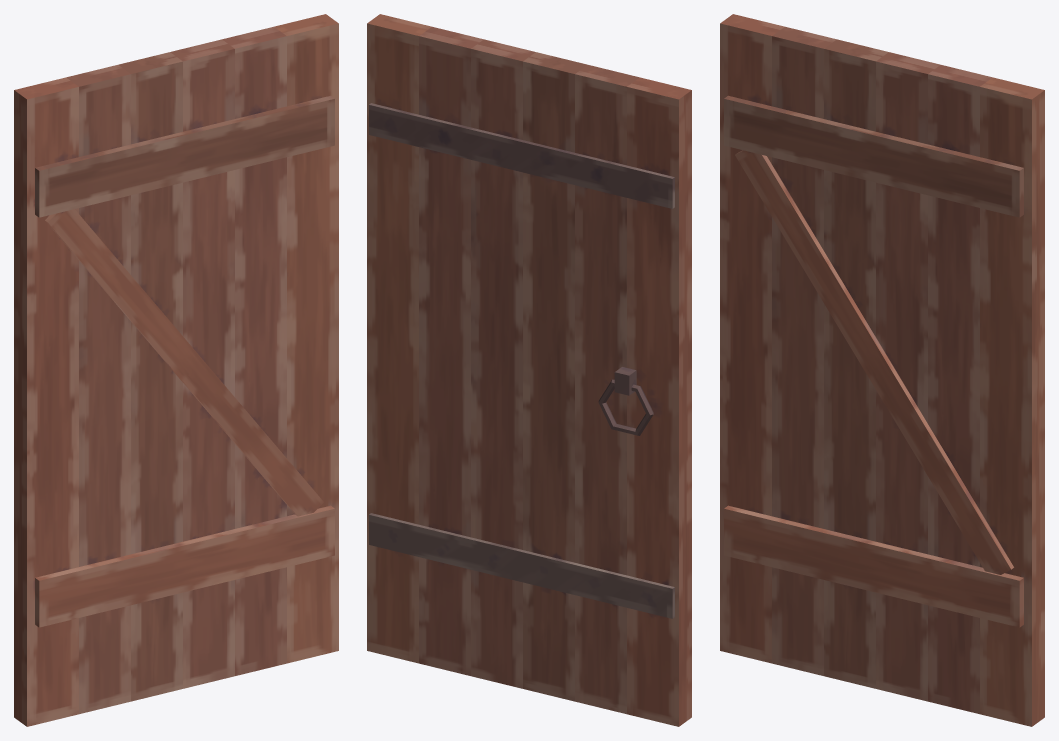
The model's file is door_low.fbx.
3 views of the same model, side by side, from view 1: azimuth 30°, elevation 25°; view 2: azimuth 150°, elevation 25°; view 3: azimuth 330°, elevation 25° (orthographic).
Parts seen in each view (by area): view 1: door_low; view 2: door_low; view 3: door_low.
Boxes of the visible parts, left/top/right/bottom form: door_low: left=14, top=14, right=338, bottom=726; door_low: left=367, top=14, right=691, bottom=726; door_low: left=720, top=14, right=1044, bottom=726.
Size of the model in its own units: 3.9 by 7.5 by 0.53.
Materials: 1 (1 with a texture image).
